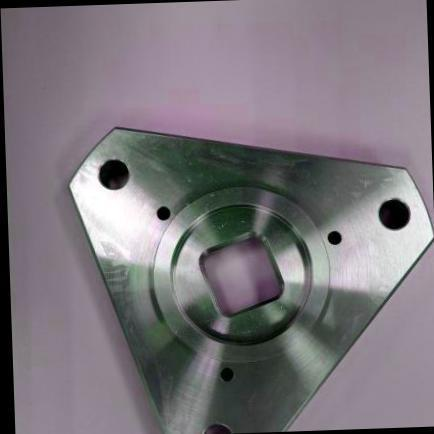hole: (93, 154, 135, 192), (376, 194, 414, 231), (197, 418, 237, 434), (152, 200, 173, 223), (215, 364, 238, 384), (325, 224, 345, 247)
